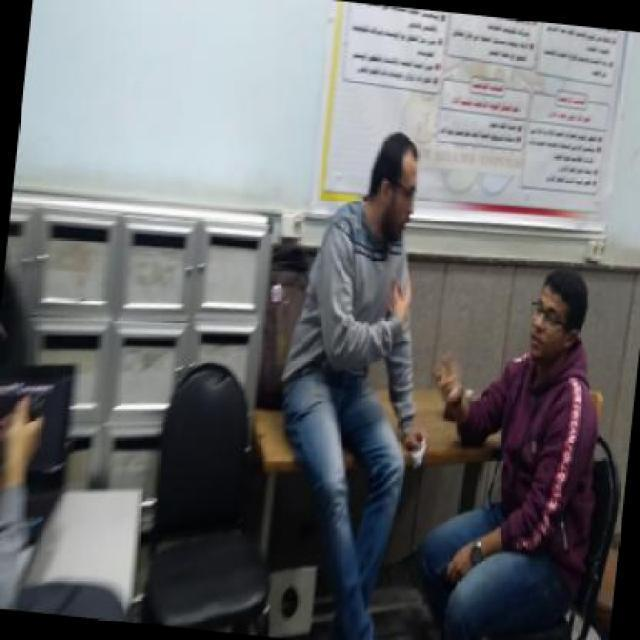non-fight: (266, 122, 459, 550), (411, 256, 620, 638)
